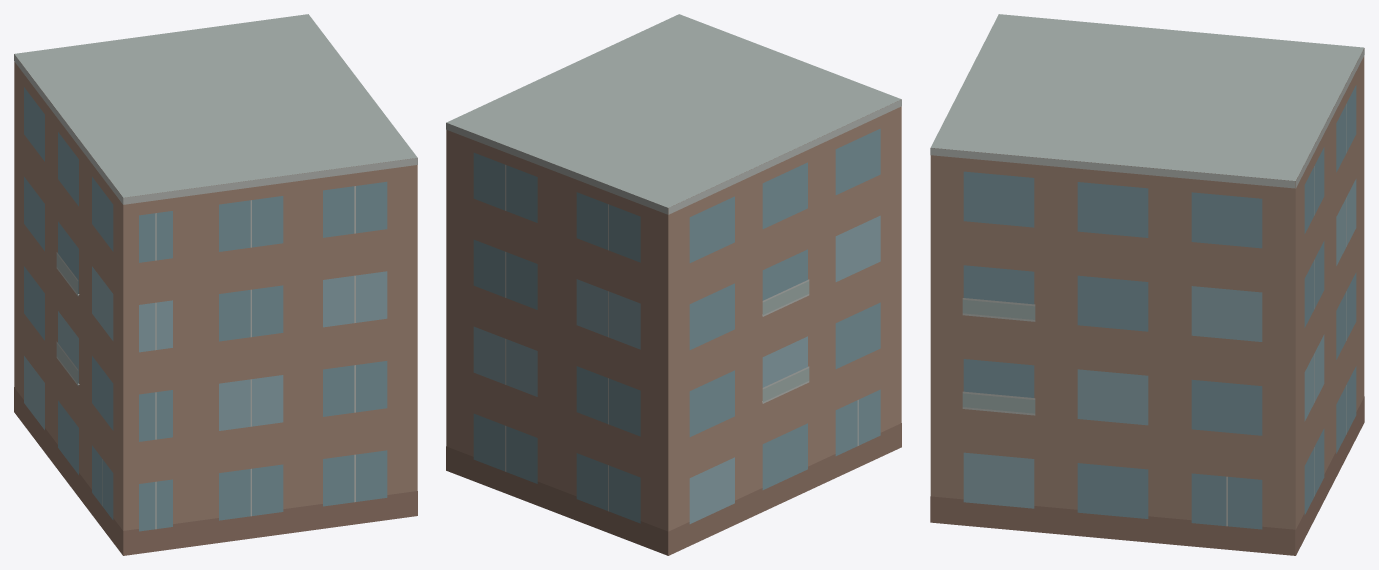
File: residential-b5a69776-3a54-4773-b0e6-913420c9d897.glb
3 renders of one model, left to right at view 1: azimuth 30°, elevation 25°; view 2: azimuth 150°, elevation 25°; view 3: azimuth 270°, elevation 25°, orthographic. The views are drawn at different scales.
Parts seen in each view (by area): view 1: residential-b5a69776-3a54-4773-b0e6-913420c9d897.tmp; view 2: residential-b5a69776-3a54-4773-b0e6-913420c9d897.tmp; view 3: residential-b5a69776-3a54-4773-b0e6-913420c9d897.tmp.
Part boxes in pixels (box(x1,y1,x2,y2)): residential-b5a69776-3a54-4773-b0e6-913420c9d897.tmp: box(14, 14, 417, 555); residential-b5a69776-3a54-4773-b0e6-913420c9d897.tmp: box(446, 14, 901, 555); residential-b5a69776-3a54-4773-b0e6-913420c9d897.tmp: box(930, 14, 1364, 555).
Bounding box in the file's own units: 11.67 × 12.2 × 12.81.
